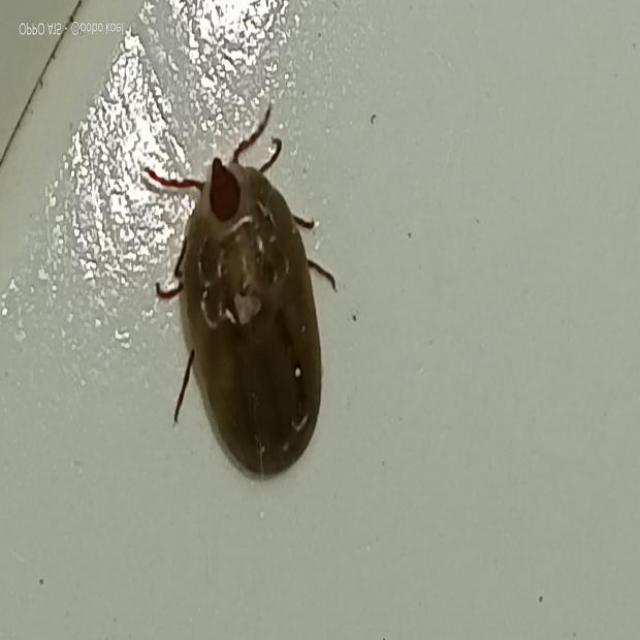Rhipicephalus Sanguineus-F-Fed: (147, 109, 351, 482)
